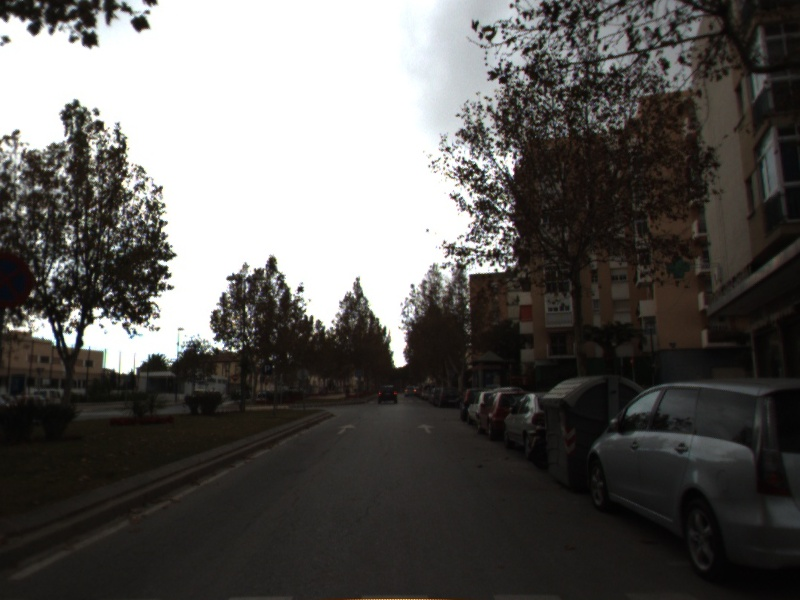STRAIGHT: (333, 421, 359, 437), (415, 421, 438, 436)
